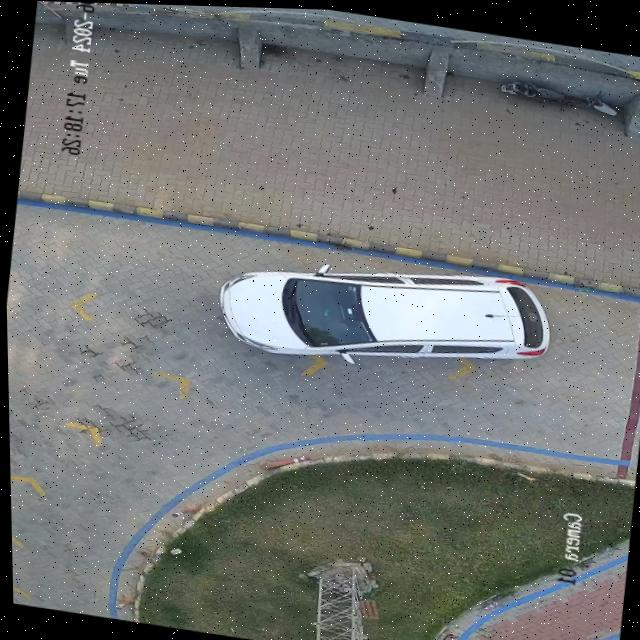car: (221, 266, 552, 357)
